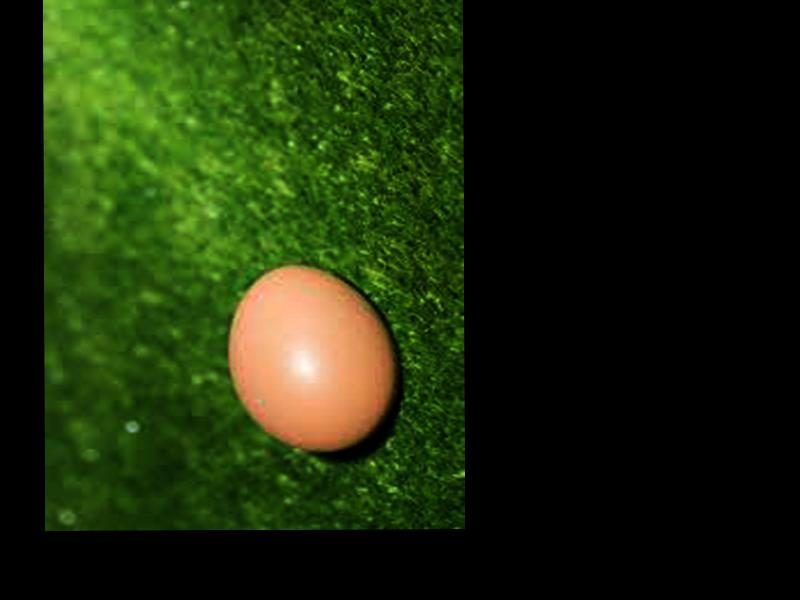Eggs: (230, 262, 400, 454)
